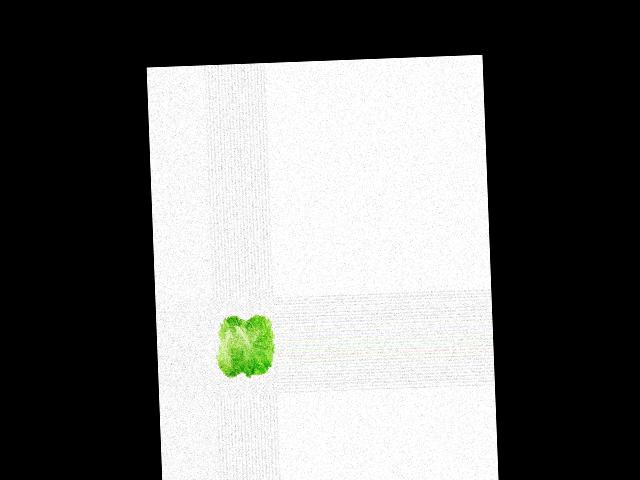lettuce: (212, 309, 277, 383)
